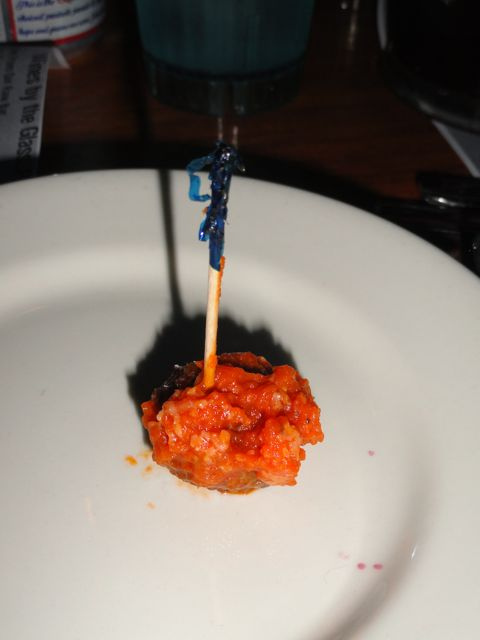meatballs: (143, 347, 334, 505)
